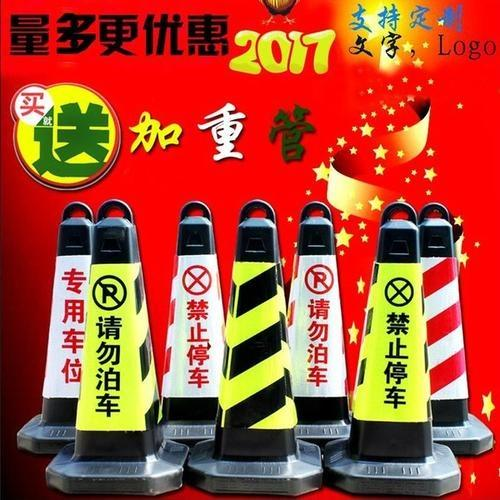cone_barrel: (57, 208, 177, 484), (202, 211, 317, 488), (339, 214, 447, 480), (25, 201, 98, 445), (157, 212, 227, 448), (416, 217, 484, 454), (284, 209, 352, 431)
